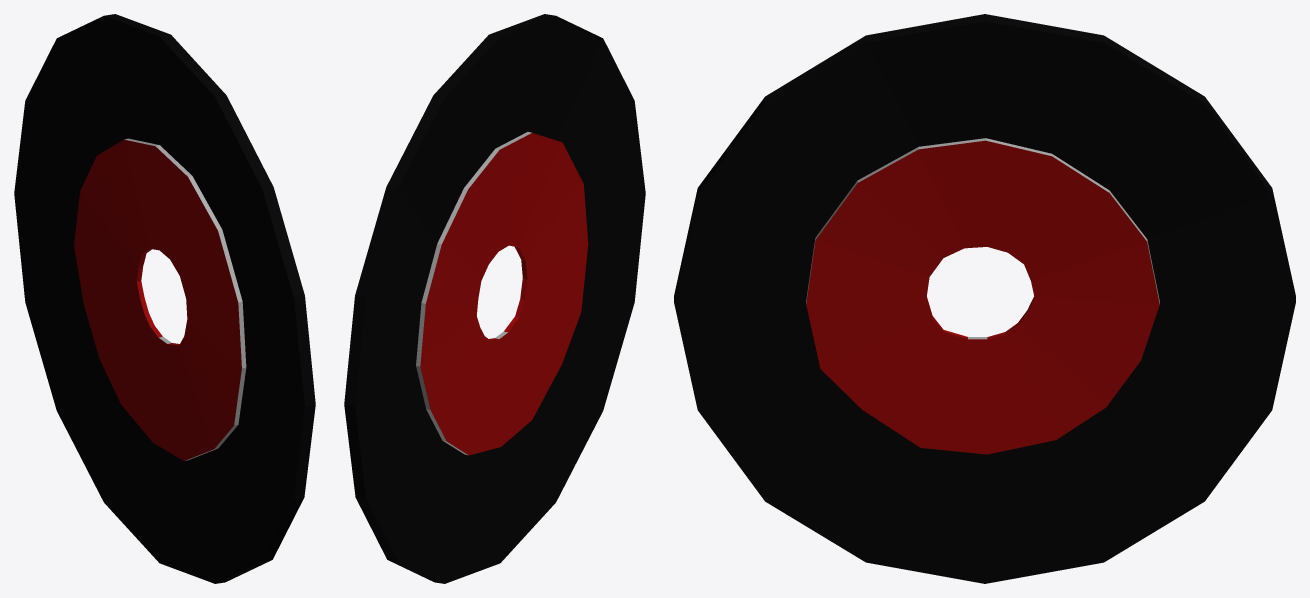
The model's file is record 2 fbx.fbx.
3 renders of one model, left to right at view 1: azimuth 30°, elevation 25°; view 2: azimuth 150°, elevation 25°; view 3: azimuth 270°, elevation 25°, orthographic. The views are drawn at different scales.
Visible parts, largest first — view 1: polySurface2; view 2: polySurface2; view 3: polySurface2.
Part boxes in pixels (x1=…): polySurface2: x1=14, y1=14, x2=315, y2=583; polySurface2: x1=344, y1=14, x2=645, y2=583; polySurface2: x1=674, y1=14, x2=1295, y2=583.
Bounding box in the file's own units: 0.0288 × 0.9535 × 0.9518.
